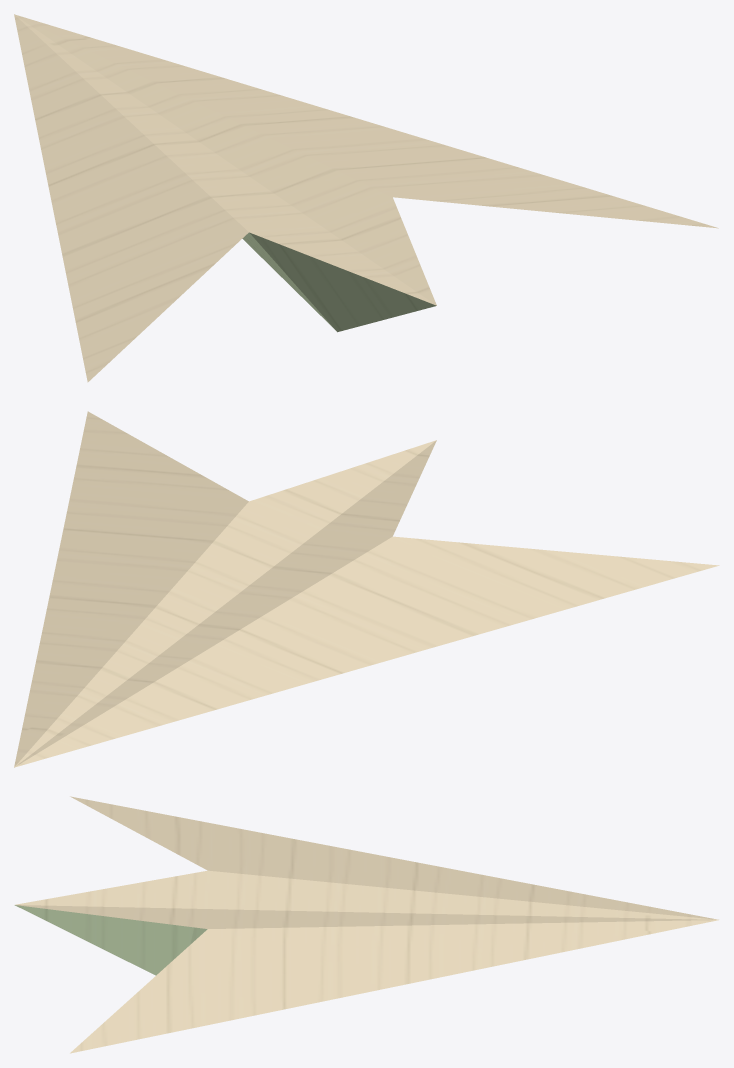
The model's file is paper_plane.glb.
3 views of the same model, one above another, from view 1: azimuth 30°, elevation 25°; view 2: azimuth 150°, elevation 25°; view 3: azimuth 270°, elevation 25° (orthographic). The views are drawn at different scales.
Visible parts, largest first — view 1: wing_left, wing_right, fold_left; view 2: wing_left, wing_right; view 3: wing_right, wing_left, fold_left.
Boxes of the visible parts, x1=… form: wing_left: x1=14, y1=14, x2=436, y2=382; wing_right: x1=14, y1=14, x2=718, y2=305; fold_left: x1=242, y1=232, x2=436, y2=332; wing_left: x1=14, y1=440, x2=719, y2=767; wing_right: x1=14, y1=411, x2=436, y2=767; wing_right: x1=16, y1=905, x2=718, y2=1053; wing_left: x1=15, y1=796, x2=718, y2=919; fold_left: x1=14, y1=905, x2=207, y2=975.
Size of the model in its own units: 0.22 by 0.035 by 0.255.
Materials: 3 (3 with a texture image).
